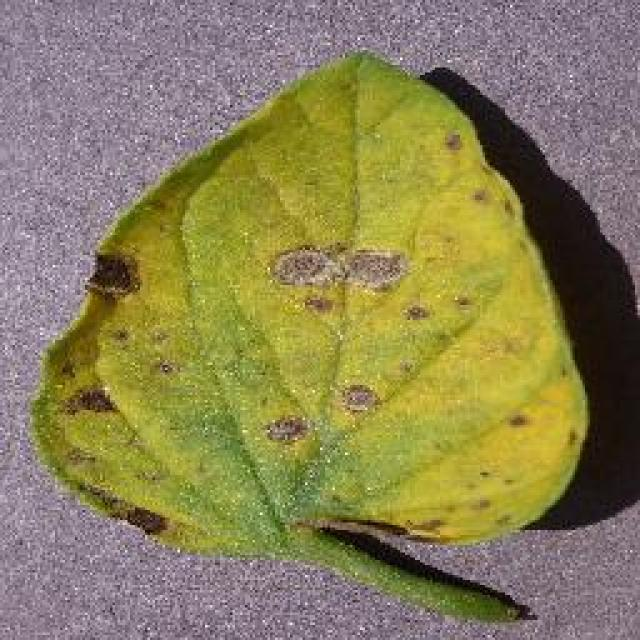Tomato___Septoria_leaf_spot: (32, 52, 582, 618)
